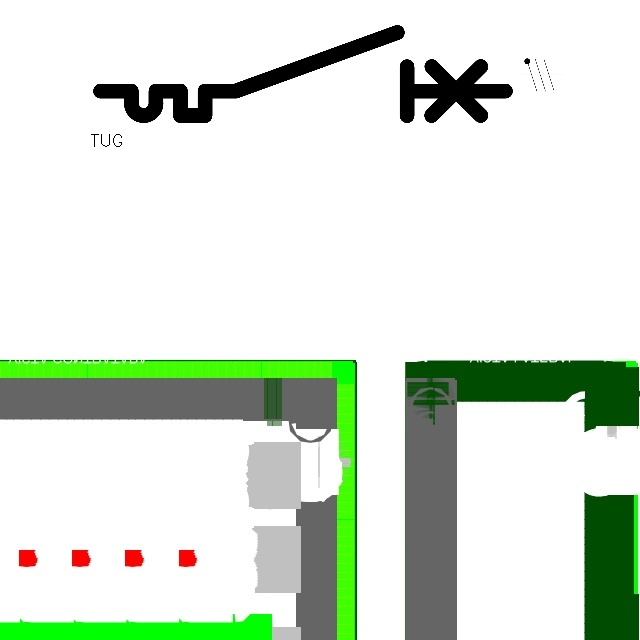interruptor_termomagnetico: (90, 22, 516, 126)
